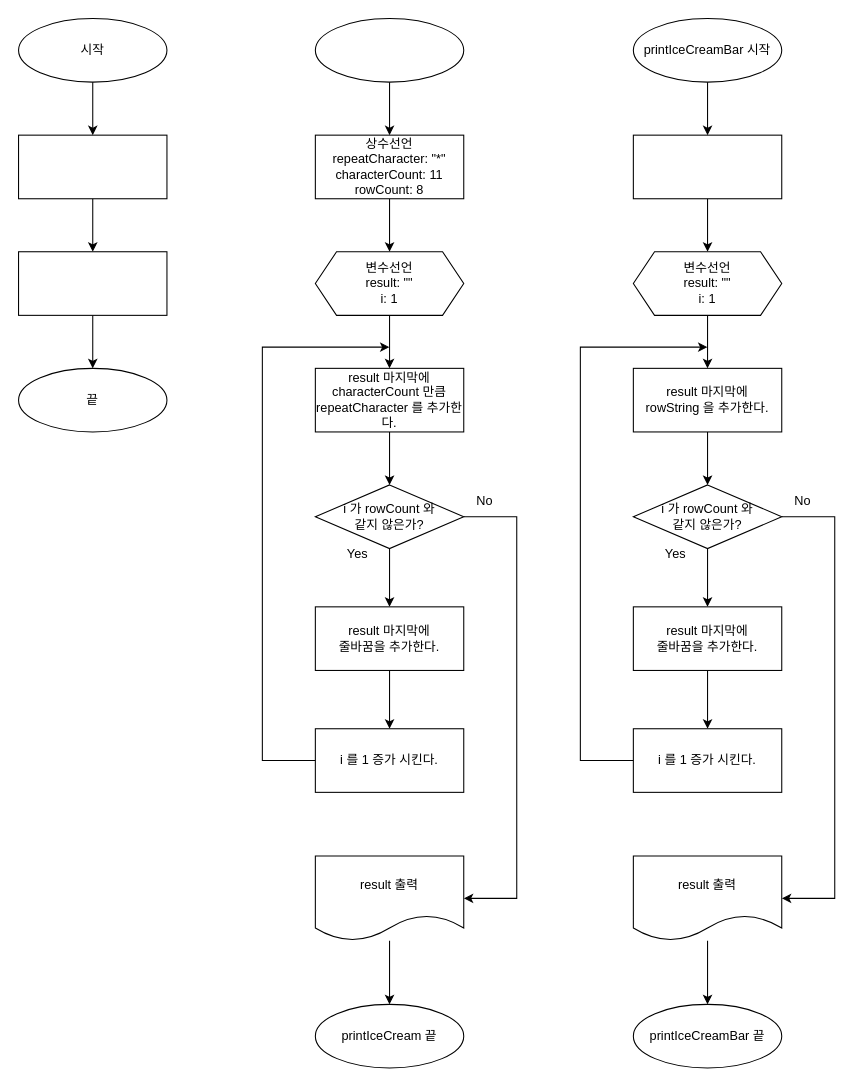
This 862x1087 diagram has some shape labels left out. Each missing label, with the box of its shape:
printIceCream 시작: (314, 17, 464, 82)
printIceCream 실행: (17, 134, 167, 199)
printIceCreamBar 실행: (17, 251, 167, 315)
상수선언 rowString: " | |" rowCount: 4: (632, 134, 782, 199)
